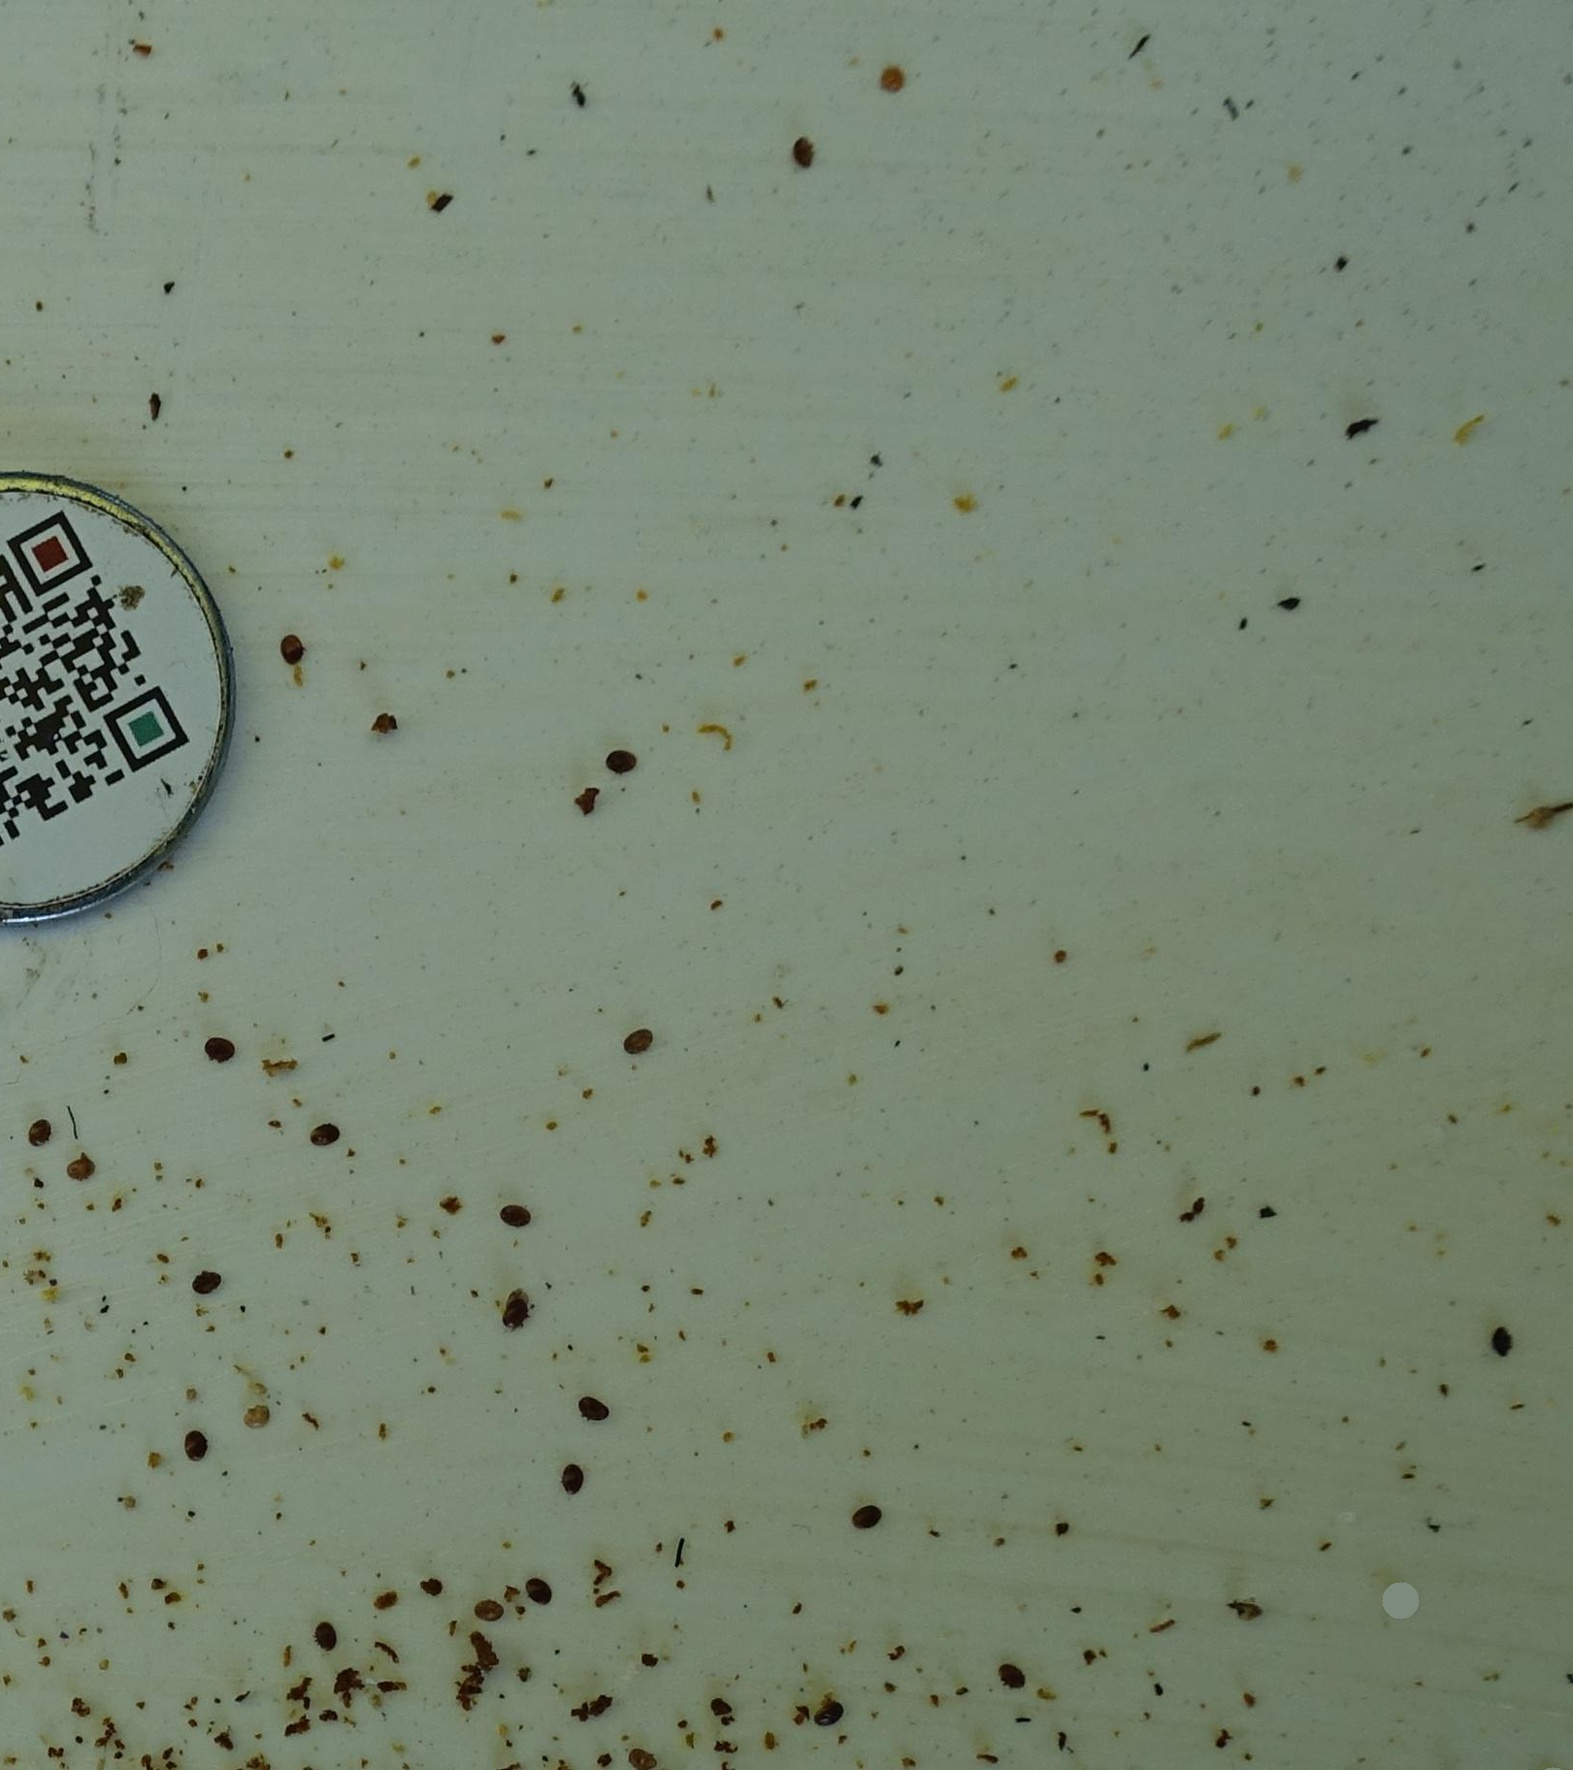Varroa: (500, 1295, 527, 1324), (578, 1397, 604, 1424), (193, 1271, 219, 1296), (68, 1157, 94, 1183), (501, 1202, 525, 1230), (311, 1120, 336, 1148), (478, 1592, 503, 1620), (999, 1664, 1023, 1690), (522, 1576, 547, 1602), (1491, 1333, 1515, 1359), (311, 1623, 336, 1647), (610, 747, 633, 773), (623, 1035, 645, 1060), (184, 1431, 208, 1454), (563, 1466, 585, 1491), (853, 1498, 875, 1521), (27, 1123, 49, 1146), (214, 1035, 234, 1057), (281, 638, 301, 657), (820, 1696, 840, 1715), (796, 143, 814, 162)
